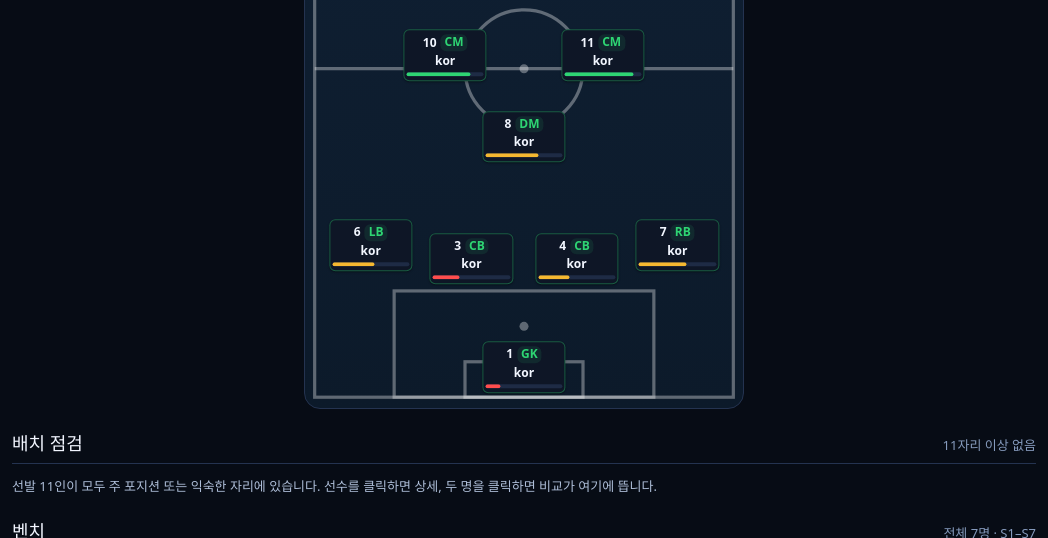
Test: LineupEditor — 컨디션 표시 (F3) › 선수 선택 카드에 체력·사기 게이지가 함께 뜬다
(page scrolled)
Step 1. Click the button with class "lu-chip" showing "1 GK kor" → point(524, 367), box [482,341,566,393]
(page scrolled)
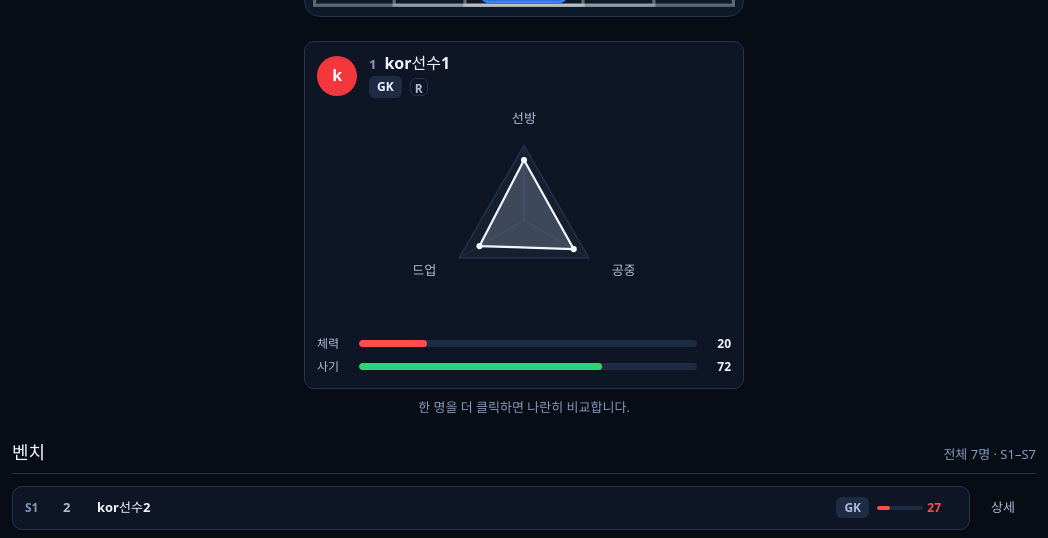
Expected: the element showing "체력 20" is shown, [317,334,731,353]
Expected: the element showing "사기 72" is shown, [317,357,731,376]
